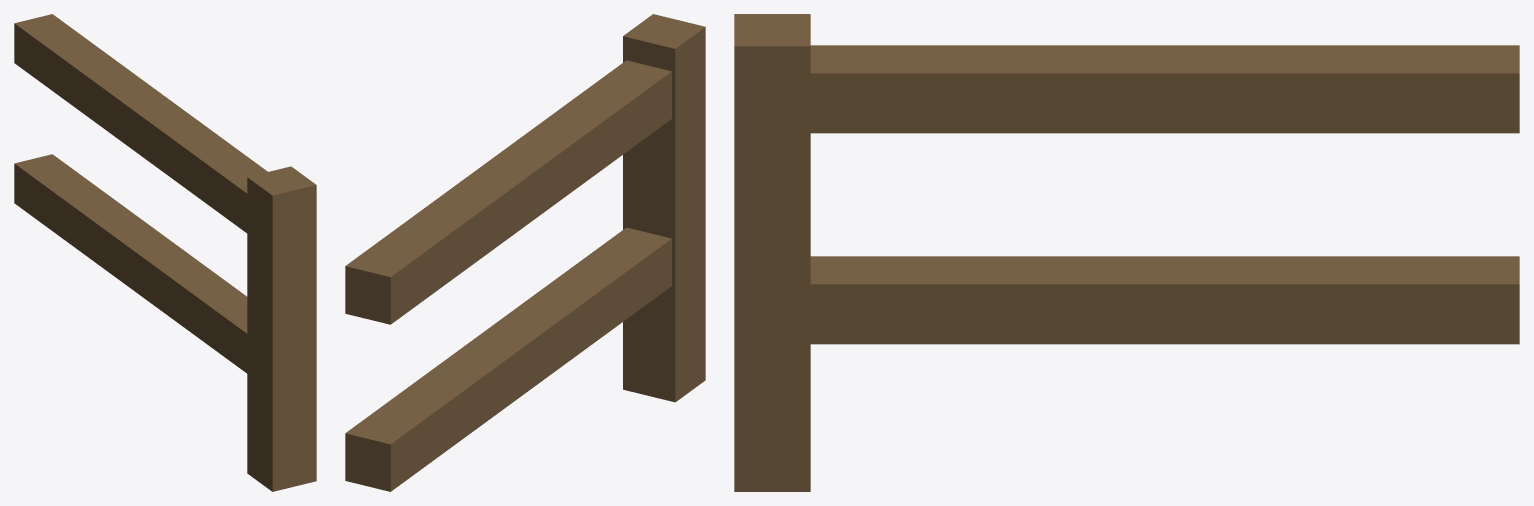
The model's file is Zabor.fbx.
The picture shows the model from 3 angles, left to right: view 1: azimuth 30°, elevation 25°; view 2: azimuth 150°, elevation 25°; view 3: azimuth 270°, elevation 25°; orthographic projection. The views are drawn at different scales.
Visible parts, largest first — view 1: Cube, Cube.002, Cube.003; view 2: Cube.003, Cube.002, Cube; view 3: Cube.002, Cube.003, Cube.
Part boxes in pixels (box(x1,y1,x2,y2)): Cube: box(247, 166, 316, 491); Cube.002: box(14, 14, 267, 233); Cube.003: box(14, 154, 247, 373); Cube.003: box(345, 227, 671, 491); Cube.002: box(345, 60, 671, 324); Cube: box(623, 14, 705, 402); Cube.002: box(810, 45, 1519, 133); Cube.003: box(810, 256, 1519, 344); Cube: box(734, 14, 810, 491).
Bounding box in the file's own units: 44.57 × 287 × 458.
